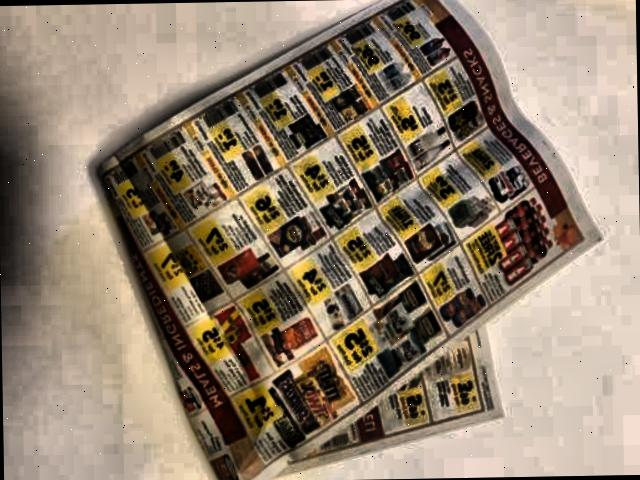Paper: (83, 0, 600, 480)
